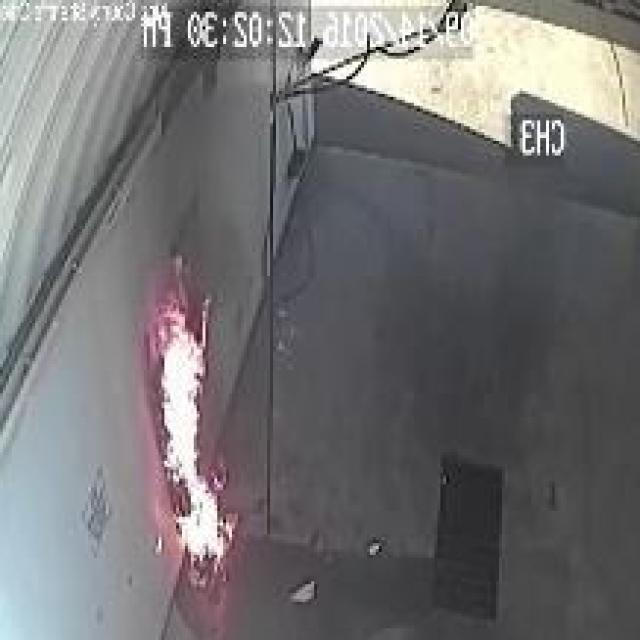smoke: (138, 276, 235, 576)
